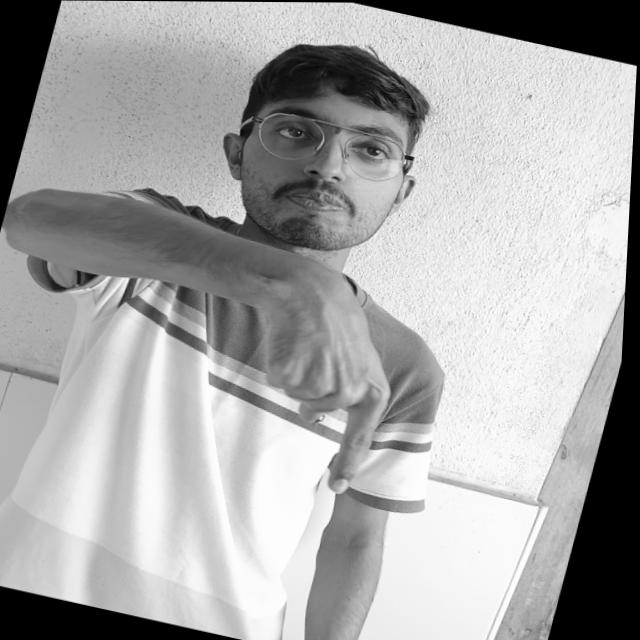Now: (130, 221, 473, 546)
